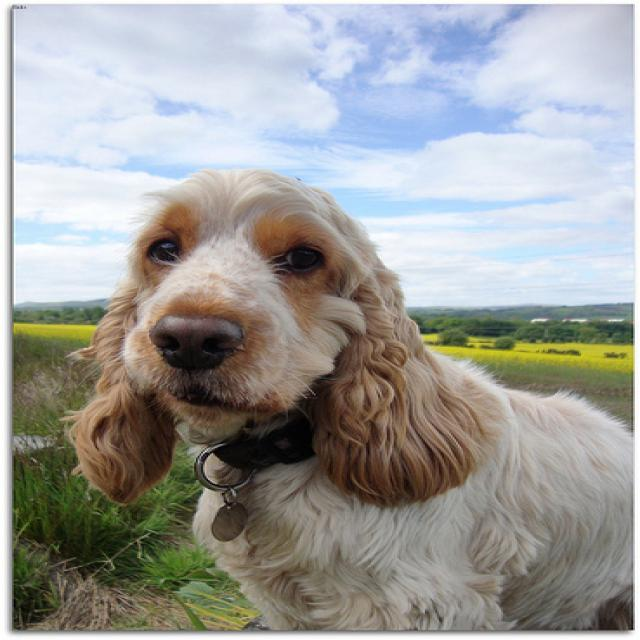dog-english_cocker_spaniel: (52, 159, 637, 637)
